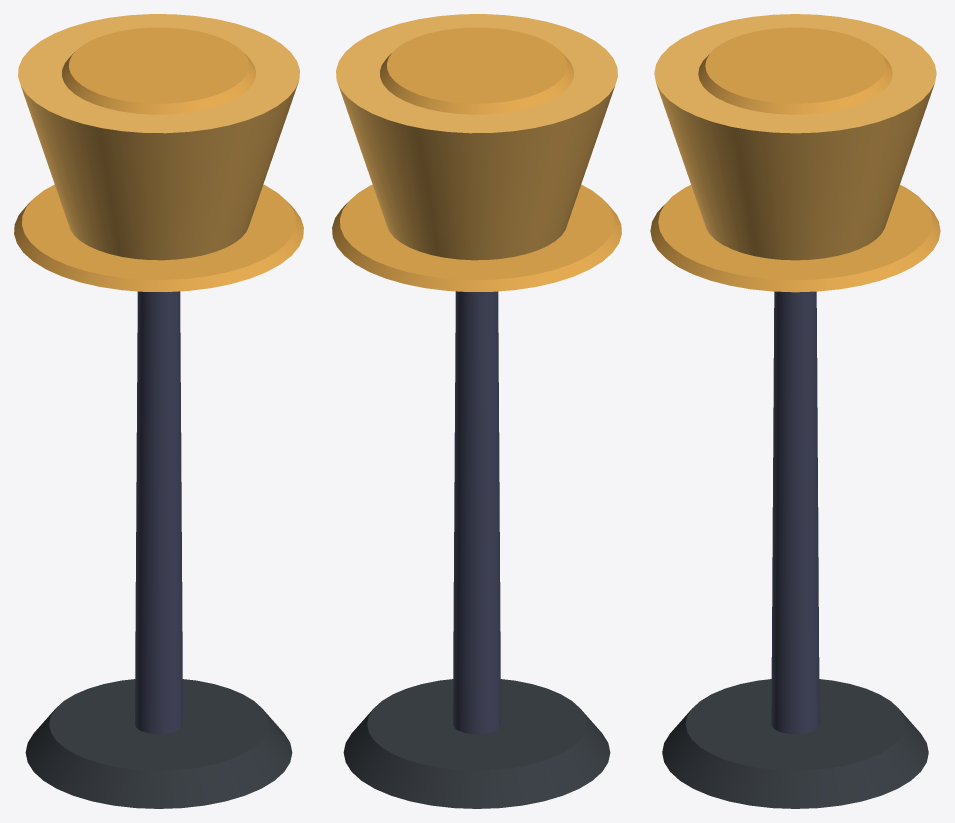
Rendered from lamp.glb.
The picture shows the model from 3 angles, left to right: view 1: azimuth 30°, elevation 25°; view 2: azimuth 150°, elevation 25°; view 3: azimuth 270°, elevation 25°; orthographic projection.
Visible parts, largest first — view 1: warm fabric shade, weighted metal lamp base, slender brushed metal pole, shade rim bottom, shade rim top; view 2: warm fabric shade, weighted metal lamp base, slender brushed metal pole, shade rim bottom, shade rim top; view 3: warm fabric shade, weighted metal lamp base, slender brushed metal pole, shade rim bottom, shade rim top.
Boxes of the visible parts, left/top/right/bottom form: warm fabric shade: left=18, top=14, right=299, bottom=260; weighted metal lamp base: left=25, top=679, right=292, bottom=808; slender brushed metal pole: left=135, top=291, right=182, bottom=734; shade rim bottom: left=14, top=184, right=303, bottom=291; shade rim top: left=62, top=27, right=255, bottom=114; warm fabric shade: left=336, top=14, right=617, bottom=260; weighted metal lamp base: left=343, top=679, right=610, bottom=808; slender brushed metal pole: left=453, top=291, right=500, bottom=734; shade rim bottom: left=332, top=184, right=621, bottom=291; shade rim top: left=380, top=27, right=573, bottom=114; warm fabric shade: left=654, top=14, right=936, bottom=260; weighted metal lamp base: left=662, top=679, right=928, bottom=808; slender brushed metal pole: left=771, top=291, right=819, bottom=734; shade rim bottom: left=650, top=185, right=940, bottom=292; shade rim top: left=698, top=27, right=892, bottom=114.
Size of the model in its own units: 0.74 by 1.94 by 0.74.
